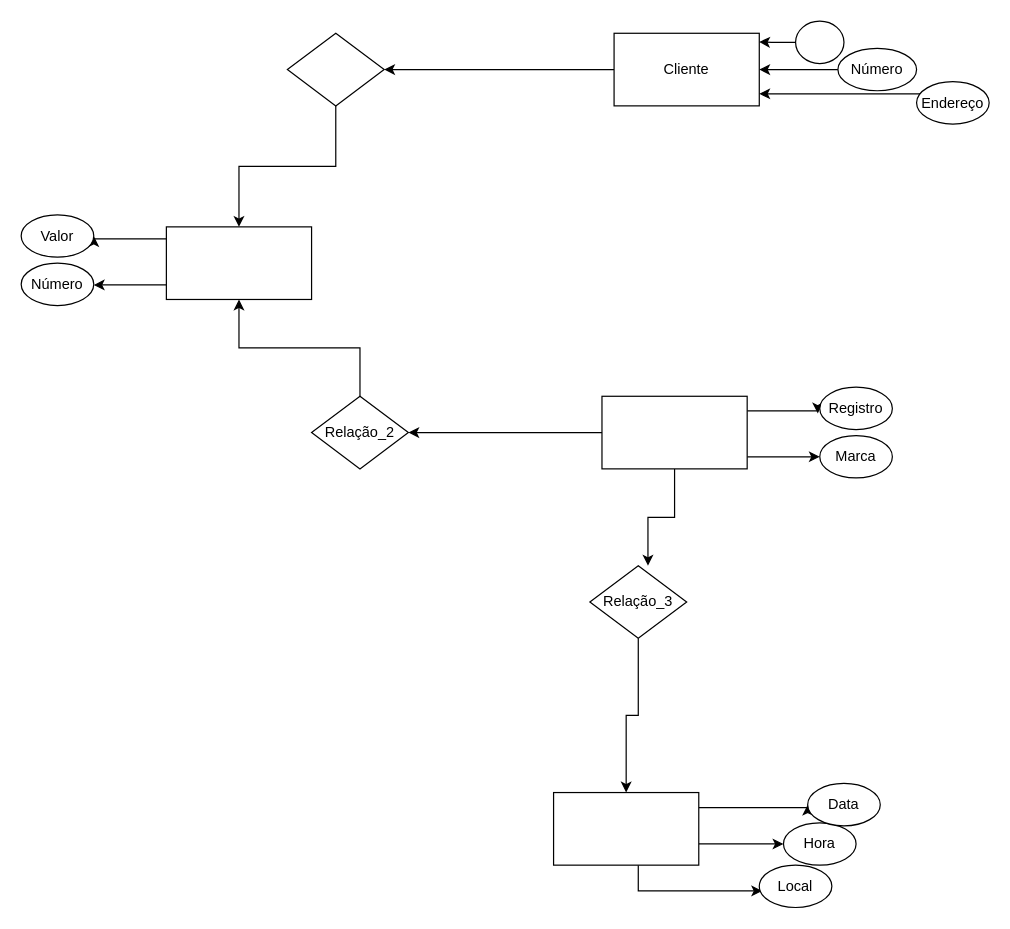
Image size: 1010x929. Some labels were removed from this diagram. Each missing label, with the box of its shape:
Acidentes: (552, 791, 699, 865)
Apolice: (165, 226, 312, 299)
Carro: (601, 395, 747, 469)
Nome: (794, 20, 844, 64)
Relação_1: (286, 32, 384, 106)
